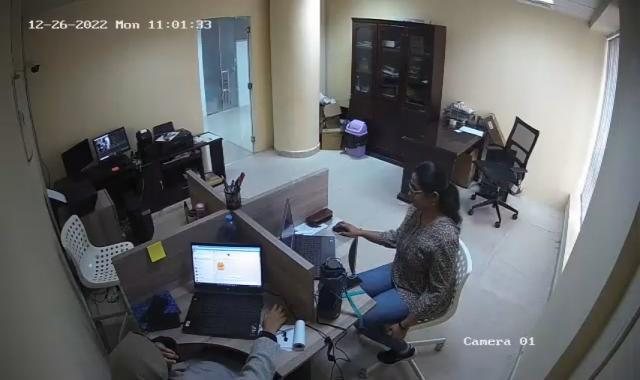no_hairnet: (109, 330, 158, 380), (407, 160, 450, 212)
